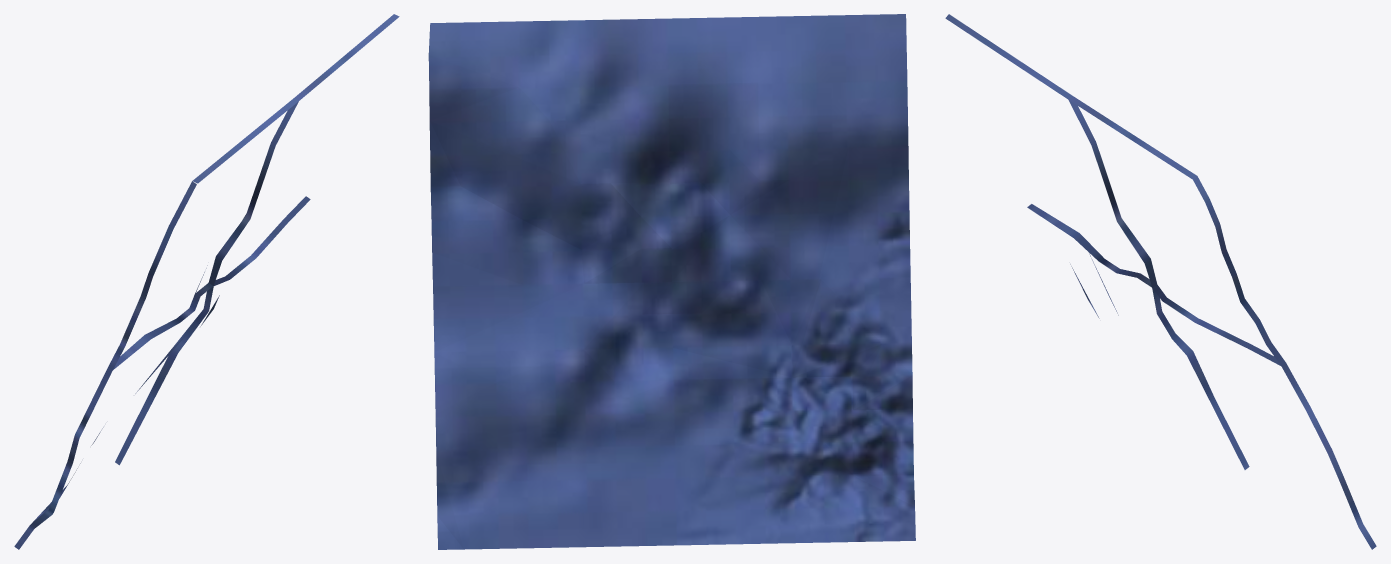
3 renders of one model, left to right at view 1: azimuth 30°, elevation 25°; view 2: azimuth 150°, elevation 25°; view 3: azimuth 270°, elevation 25°, orthographic. The views are drawn at different scales.
Bounding box in the file's own units: 19402 × 18028 × 16722.
Materials: 1 (1 with a texture image).
